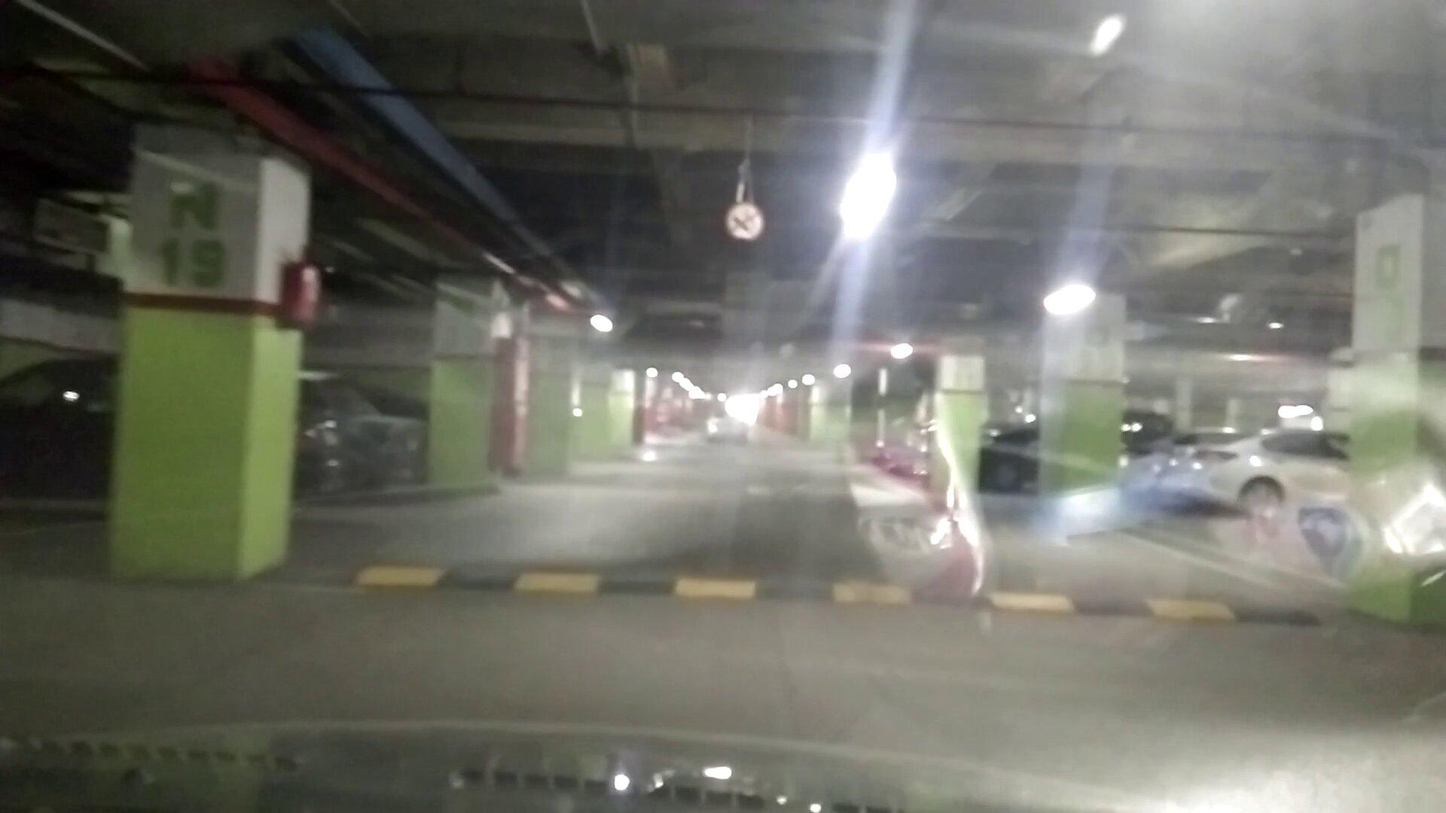Bump: (253, 560, 1318, 629)
